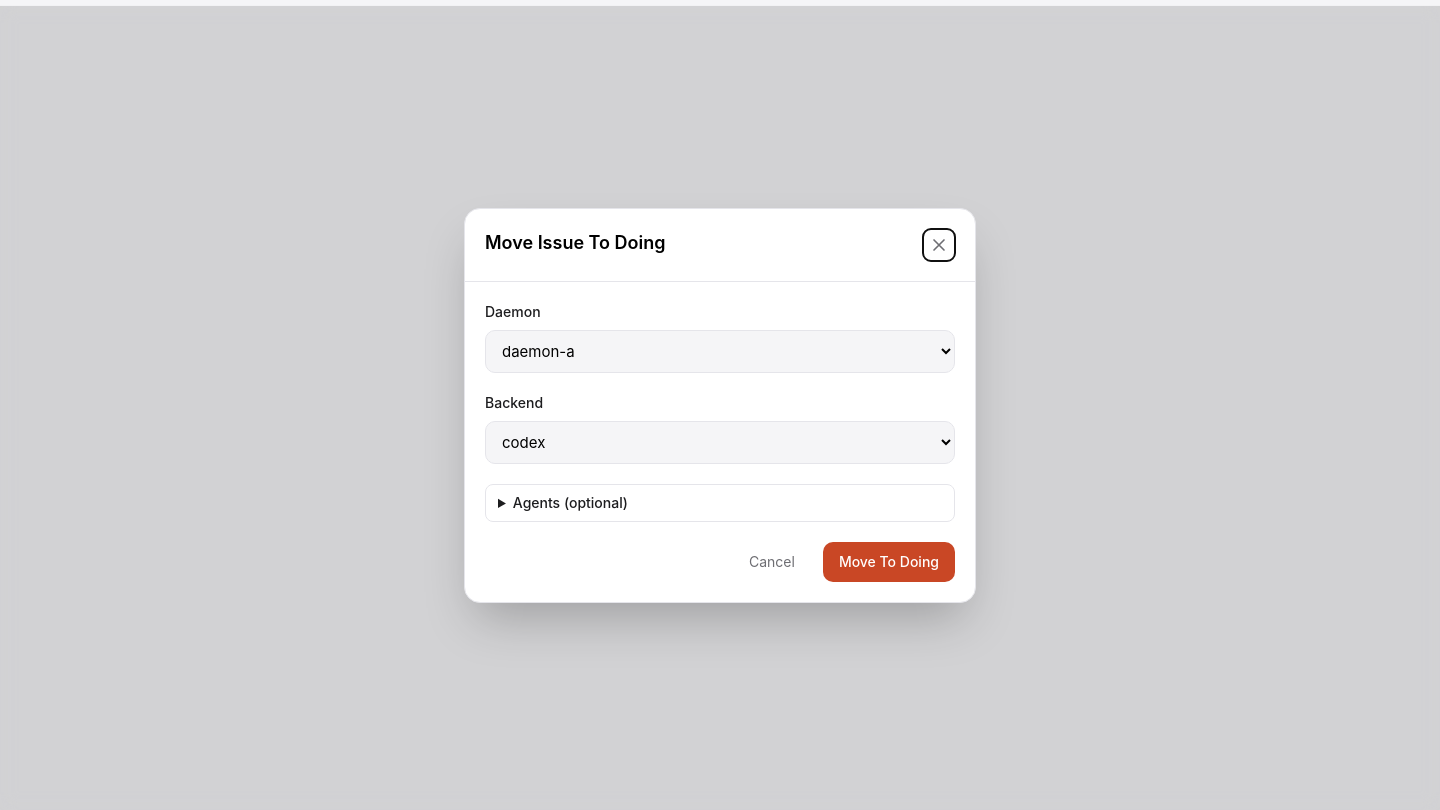
Scenario: MoveIssueToDoingDialog › re-filters the backend list when the user switches daemon
Expected: the dropdown labelled "Backend" shows "codex", [485,420,955,464]
Select "daemon-b" in the dropdown labelled "Daemon" at [720, 351], box [485,330,955,372]
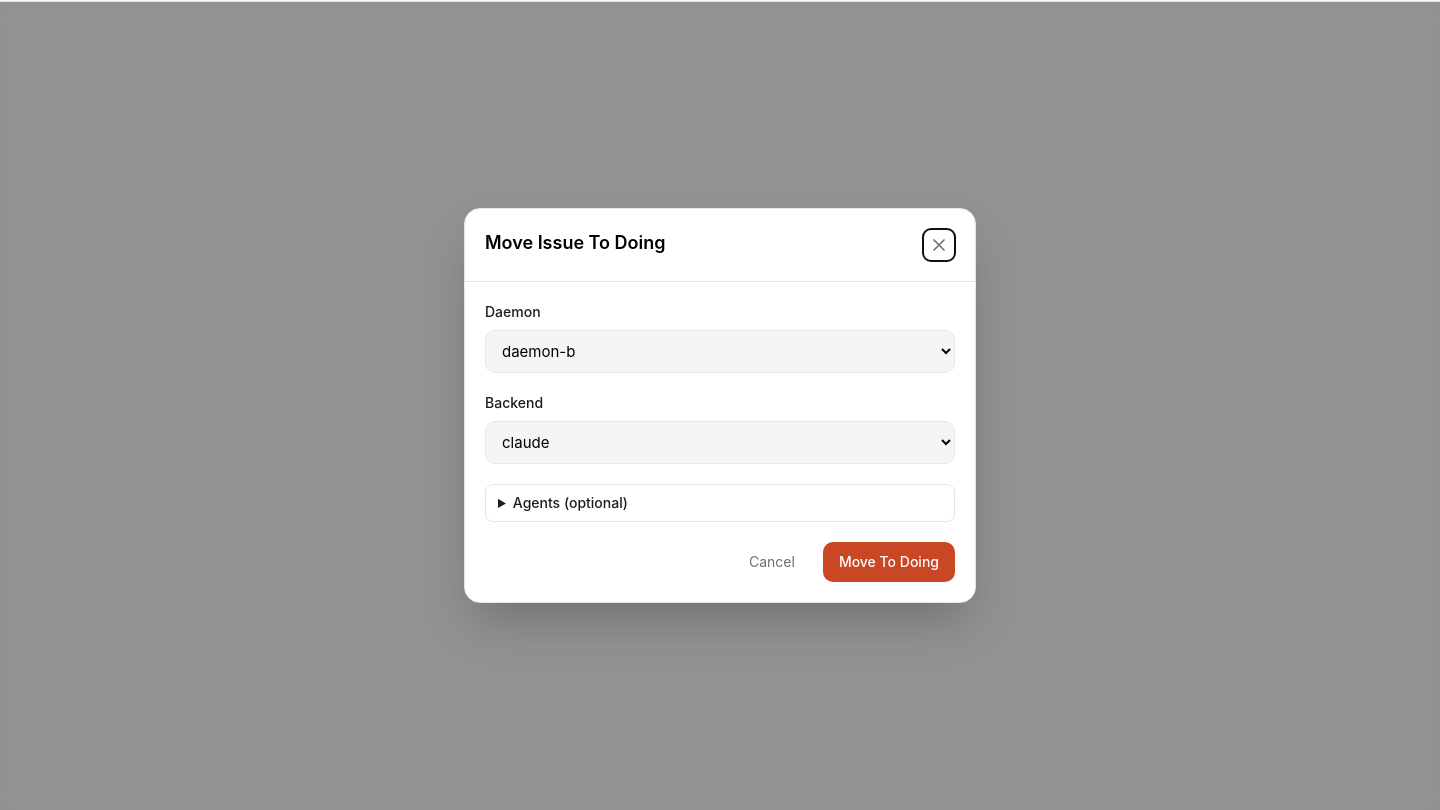
Result: the dropdown labelled "Backend" shows "claude" at [485,420,955,464]
